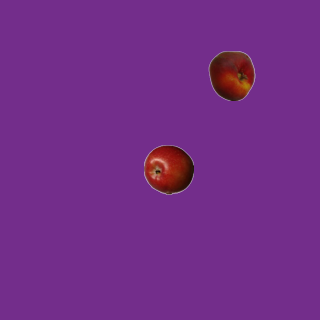Apple Braeburn: (143, 144, 193, 194)
Nectarine Flat: (206, 50, 256, 100)
